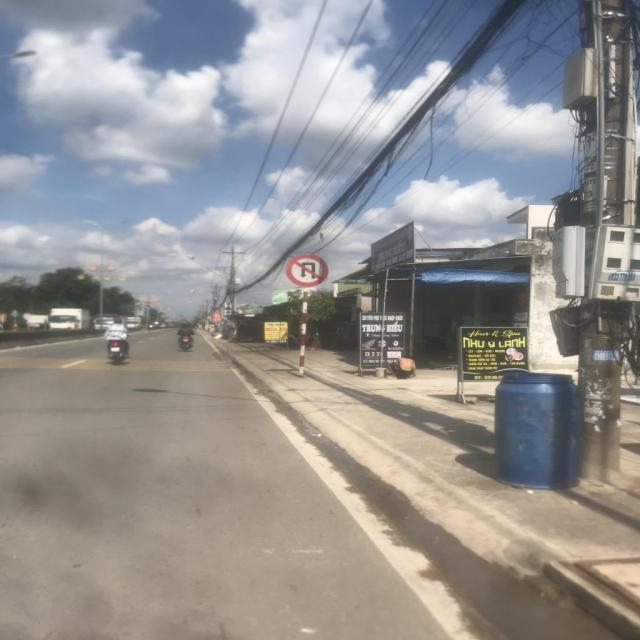cam_quay_dau_xe: (287, 255, 329, 287)
cam_xe_di_nguoc_chieu: (145, 302, 151, 306)
huong_phai_di_vuot_chuong_ngai_vat_phai: (145, 306, 150, 310)
